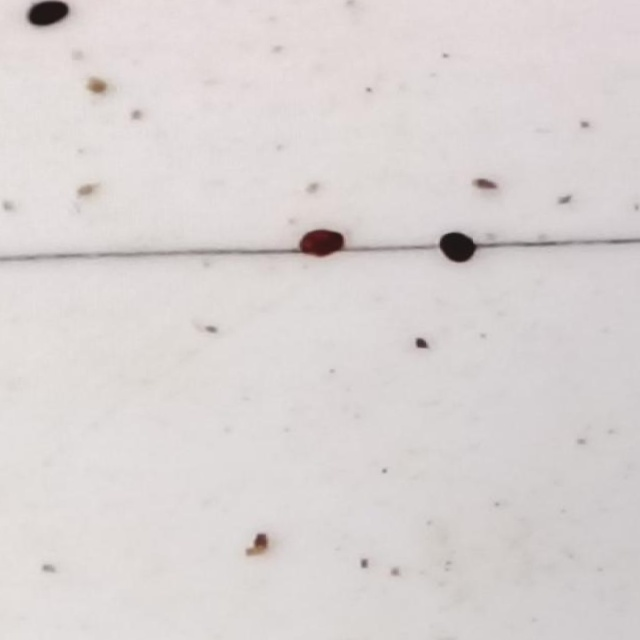varroa: (436, 230, 476, 265)
